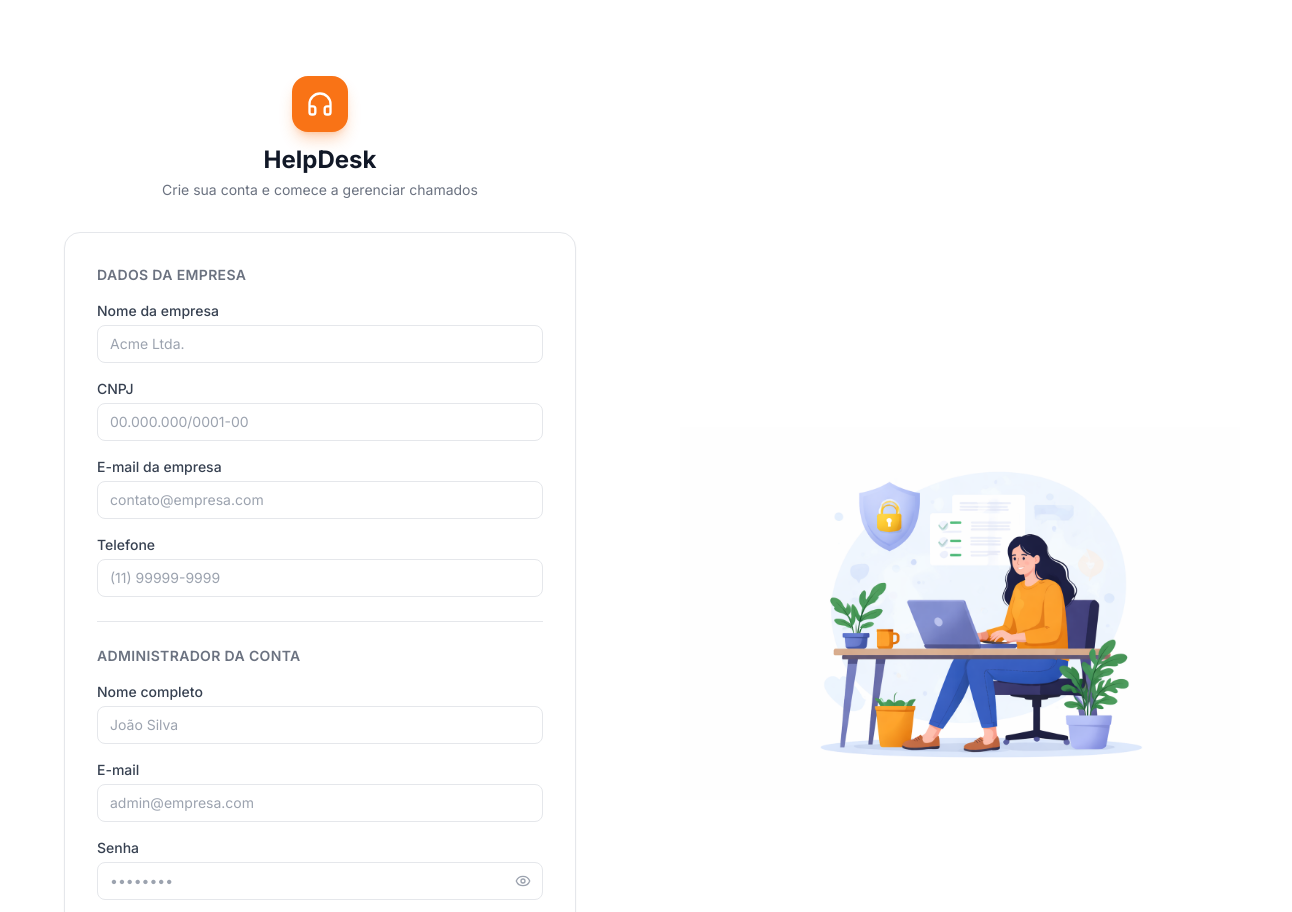
Test: RegisterPage (smoke) › formata CNPJ enquanto digita
Step 1. Type "11222333000181" into the field labelled "CNPJ" → (320, 422), box [97, 403, 543, 441]
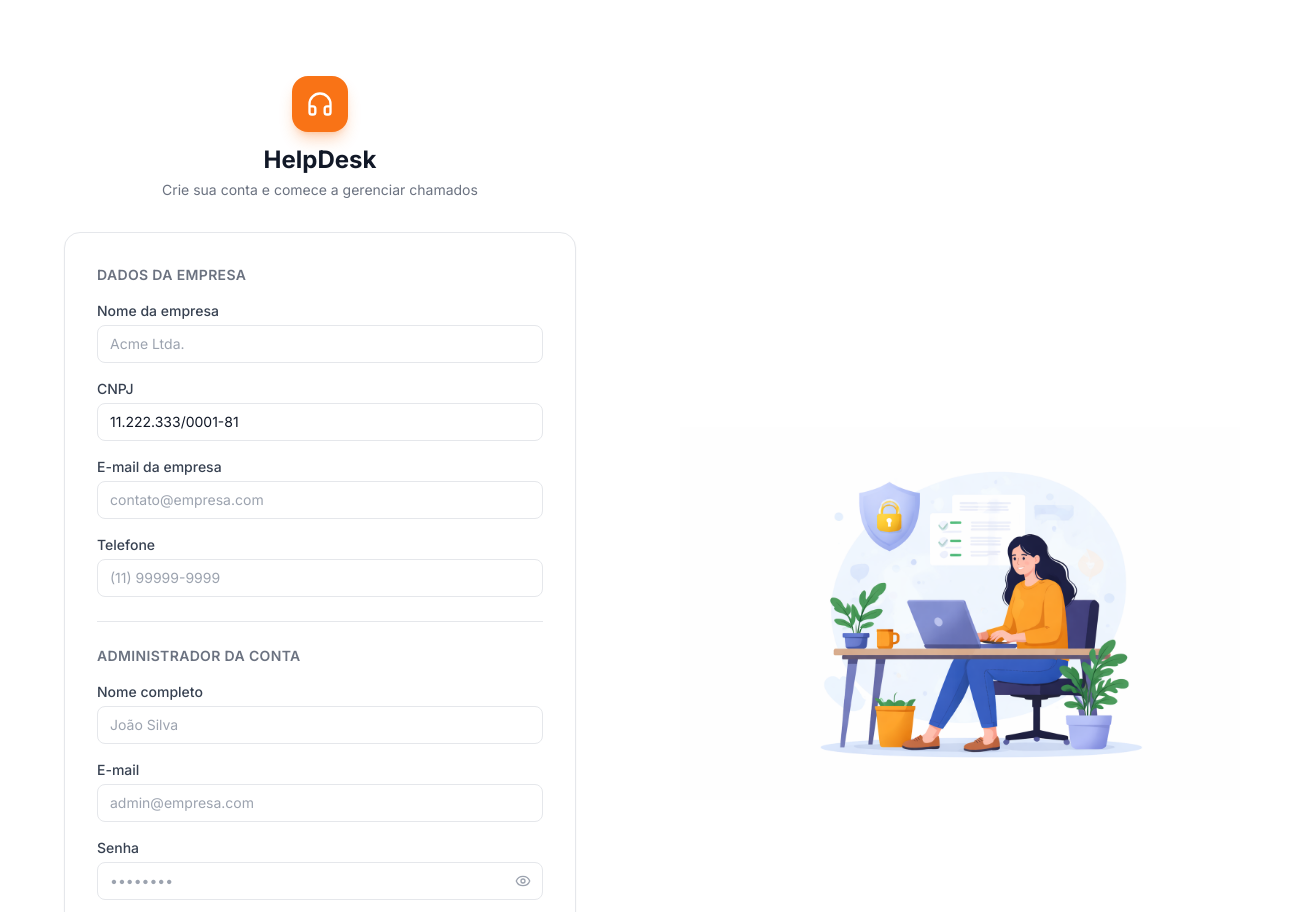
expect the field labelled "CNPJ" holds "11.222.333/0001-81": met, box [97, 403, 543, 441]
